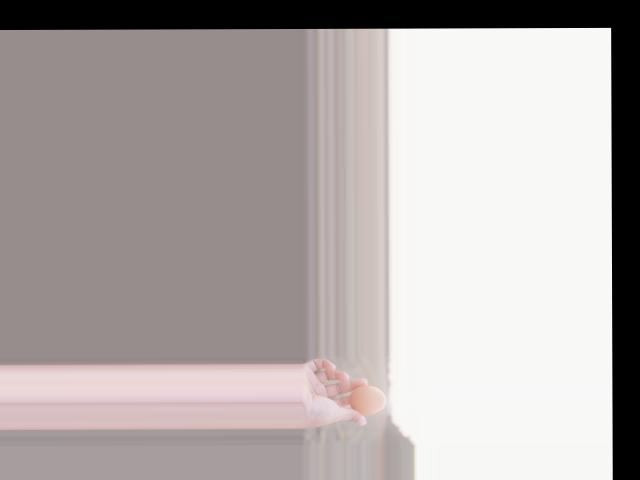egg: (350, 385, 386, 414)
